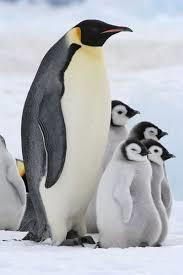emporer: (13, 15, 134, 254)
